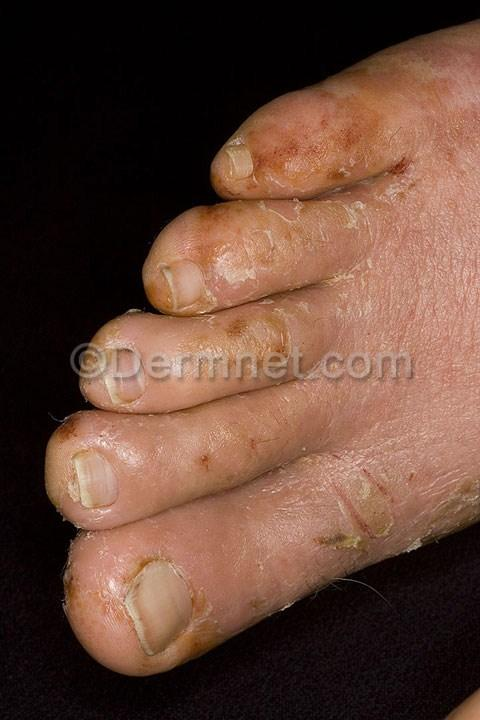Eczema: (330, 192, 443, 350), (256, 86, 400, 194), (402, 26, 480, 201), (220, 502, 360, 598), (200, 196, 312, 315), (350, 448, 480, 544), (365, 340, 480, 444), (182, 304, 298, 396), (263, 379, 347, 479), (171, 410, 252, 499), (436, 189, 480, 323), (68, 551, 117, 635), (38, 415, 93, 452)
